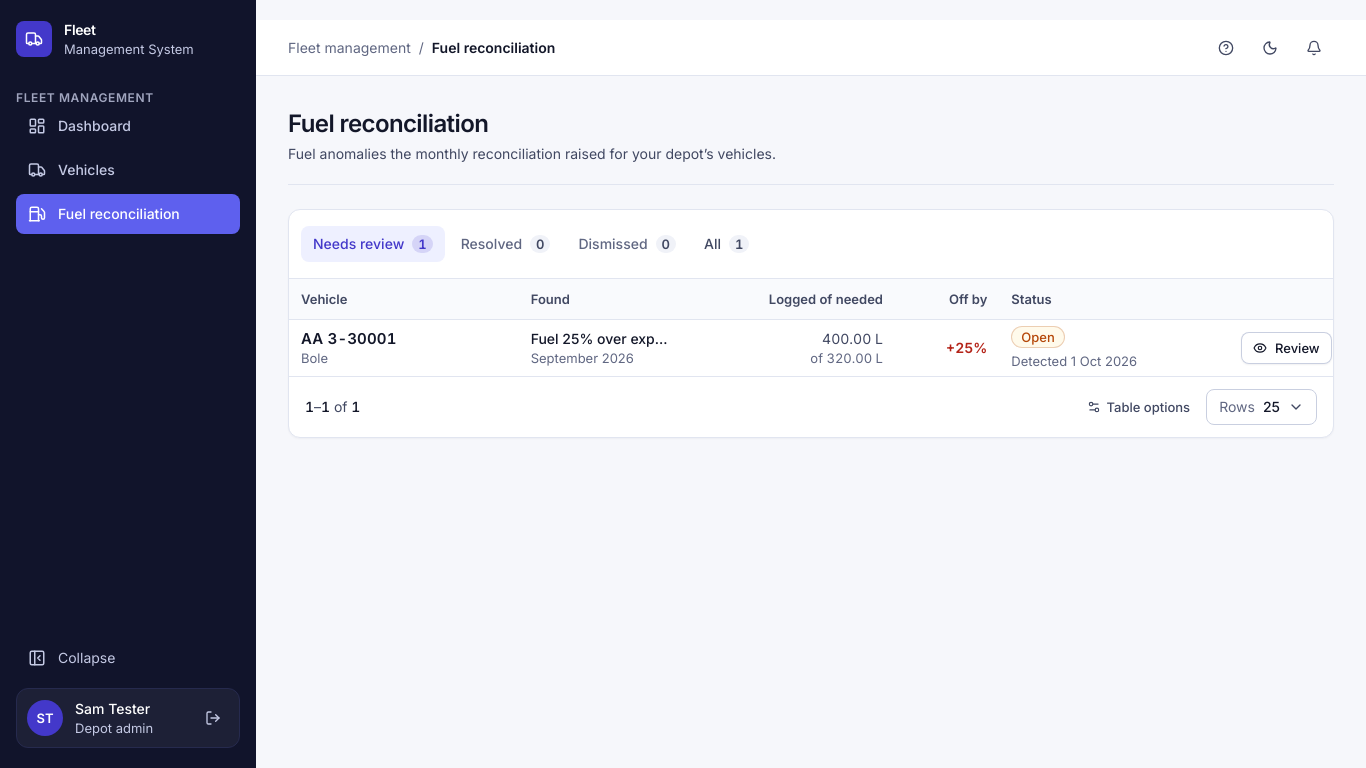
Test: Fuel reconciliation (S-15) › a depot admin sees the anomalies only, and cannot close one
Step 1. Click the text "AA 3-30001" → coordinates (811, 348), box [289,320,1333,376]
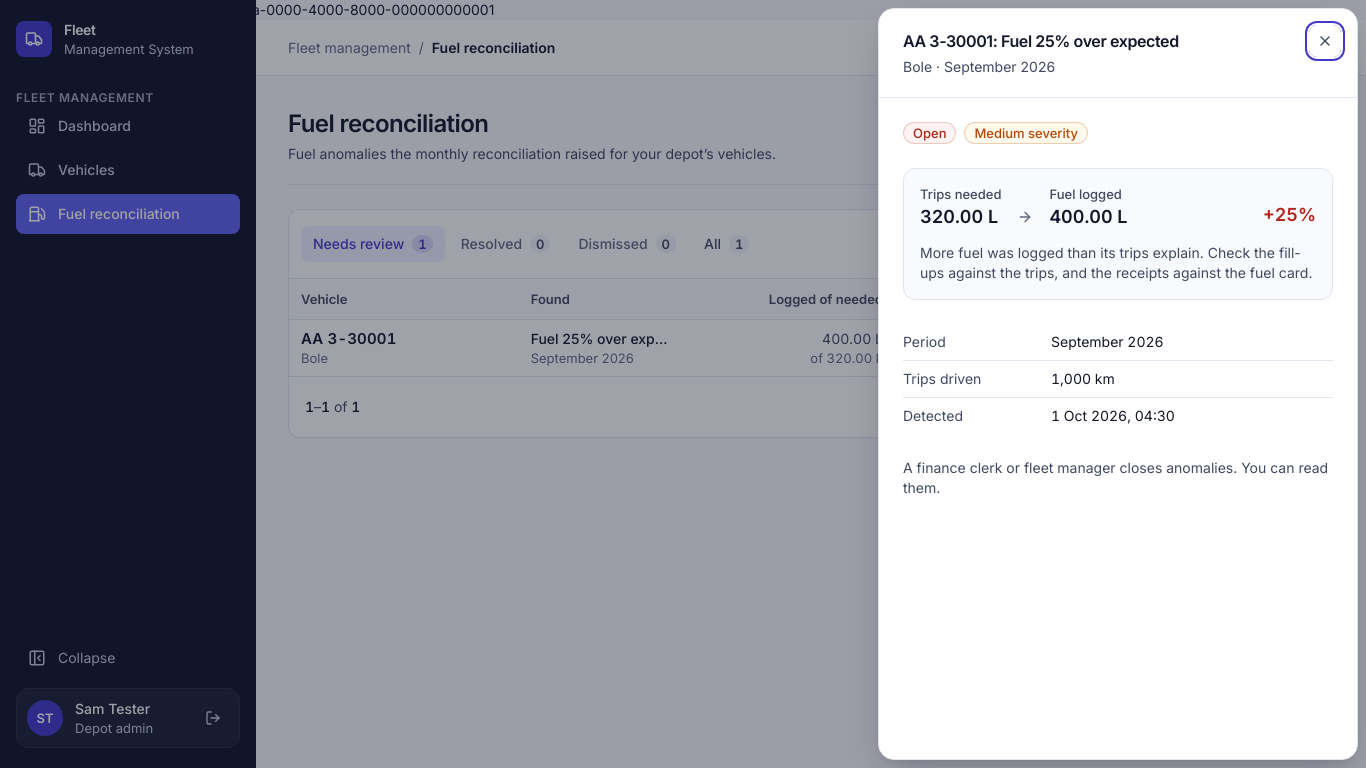
Now the text "You can read them" is shown, box [903,459,1328,496]
